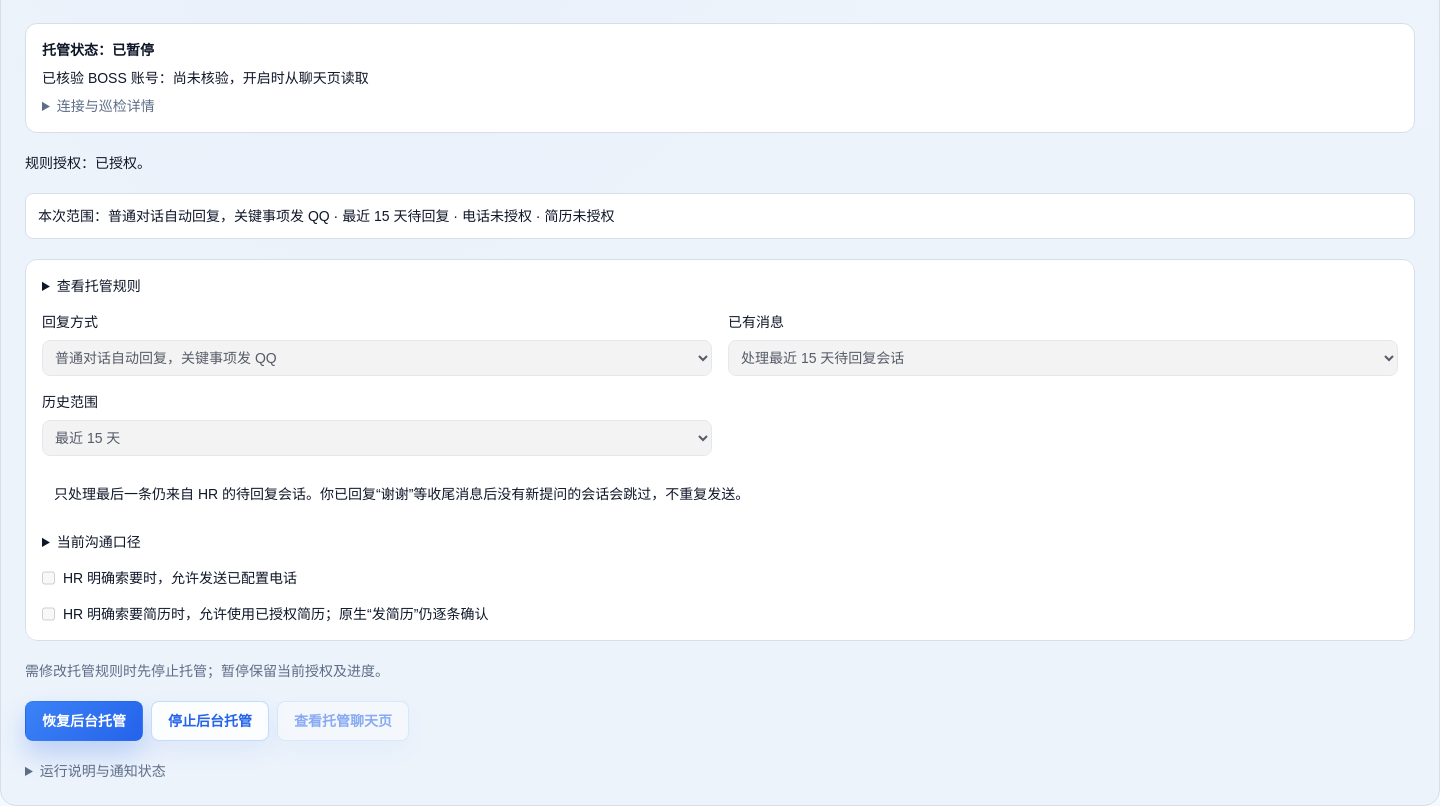
Test: replaces stale resume loading feedback with real progress only after the runtime binding confirms RUNNING
This screenshot has width=1440, height=806.
(page scrolled)
Click the button "恢复后台托管": (84, 721) [25,701,143,741]
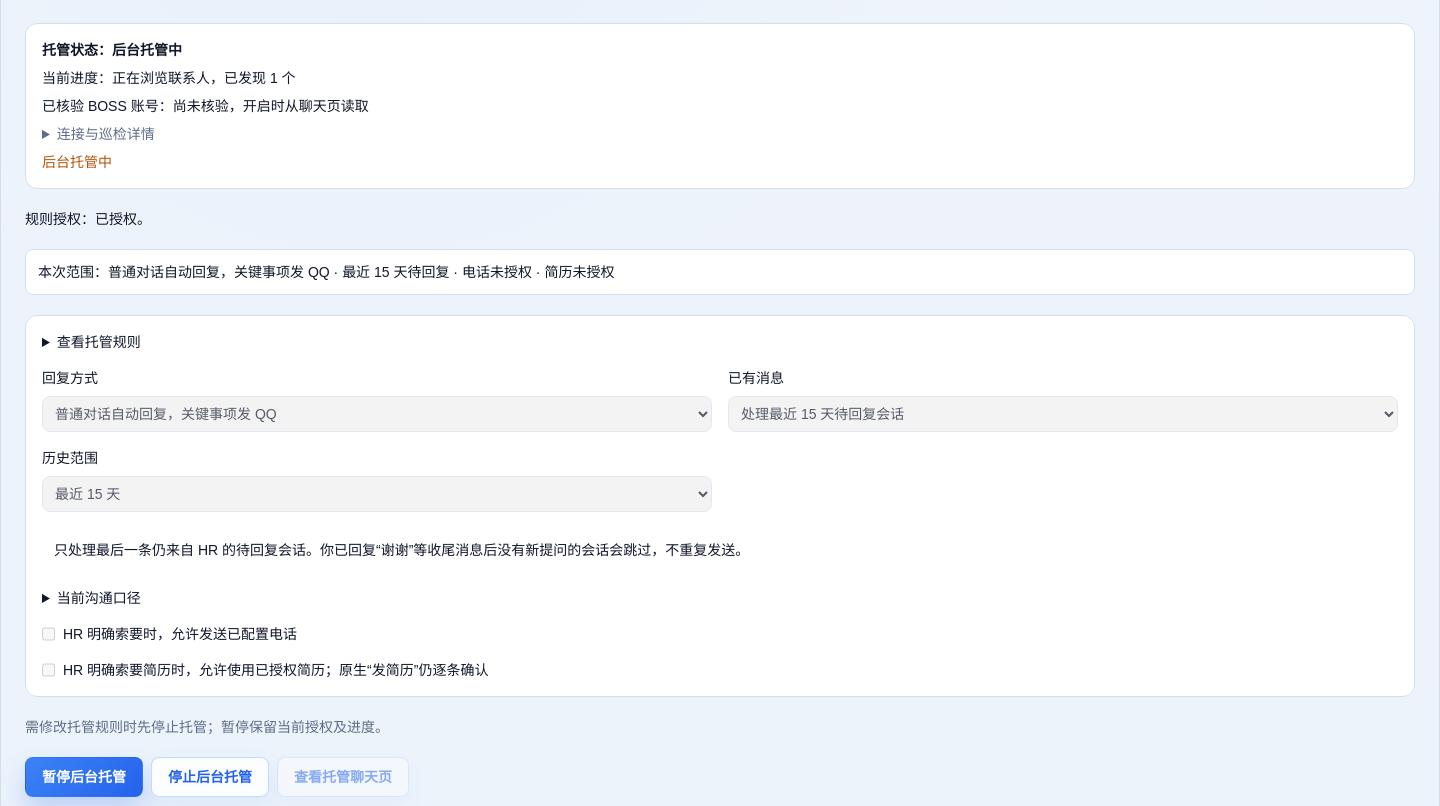
Check: the text "托管状态：后台托管中" is shown, box [42,42,182,58]
Check: the text "当前进度：正在浏览联系人，已发现 1 个" is shown, box [42,70,296,86]
